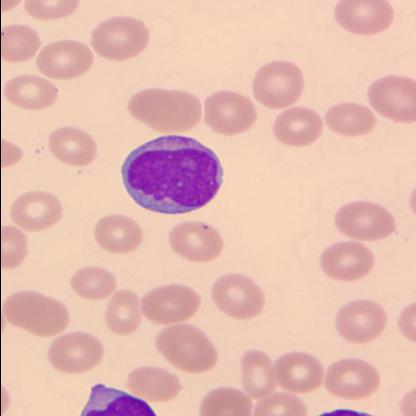Promyelocyte: (117, 134, 223, 214)
